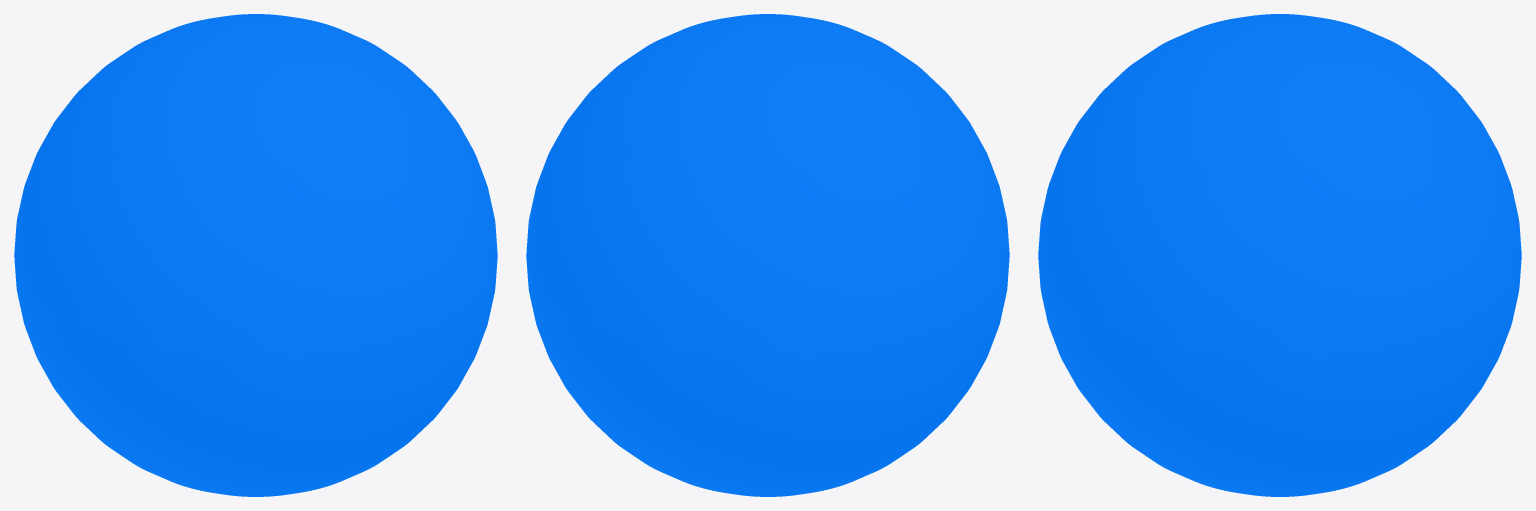
Rendered from totem_kula.glb.
3 views of the same model, side by side, from view 1: azimuth 30°, elevation 25°; view 2: azimuth 150°, elevation 25°; view 3: azimuth 270°, elevation 25° (orthographic).
Visible parts, largest first — view 1: totem_kula; view 2: totem_kula; view 3: totem_kula.
Part boxes in pixels (bbox=[...]): totem_kula: bbox=[14, 14, 497, 496]; totem_kula: bbox=[526, 14, 1009, 496]; totem_kula: bbox=[1038, 14, 1521, 496].
Bounding box in the file's own units: 3.2 × 3.2 × 3.2.
